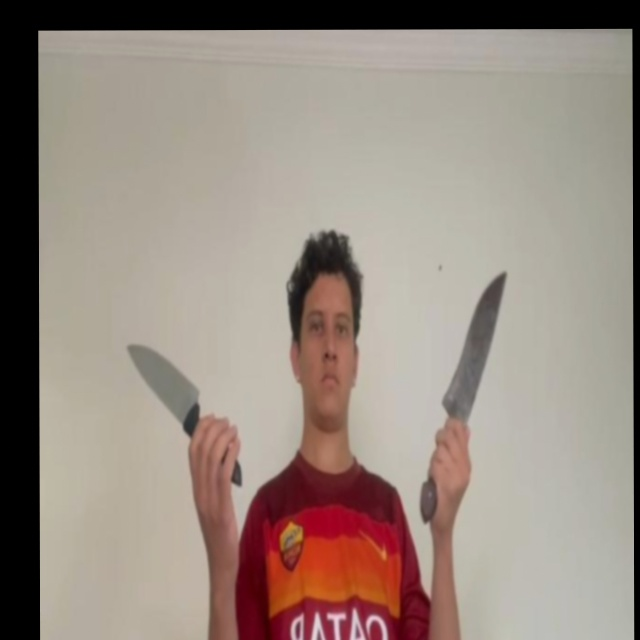Sharp-Object: (440, 272, 508, 416), (127, 340, 200, 420)
